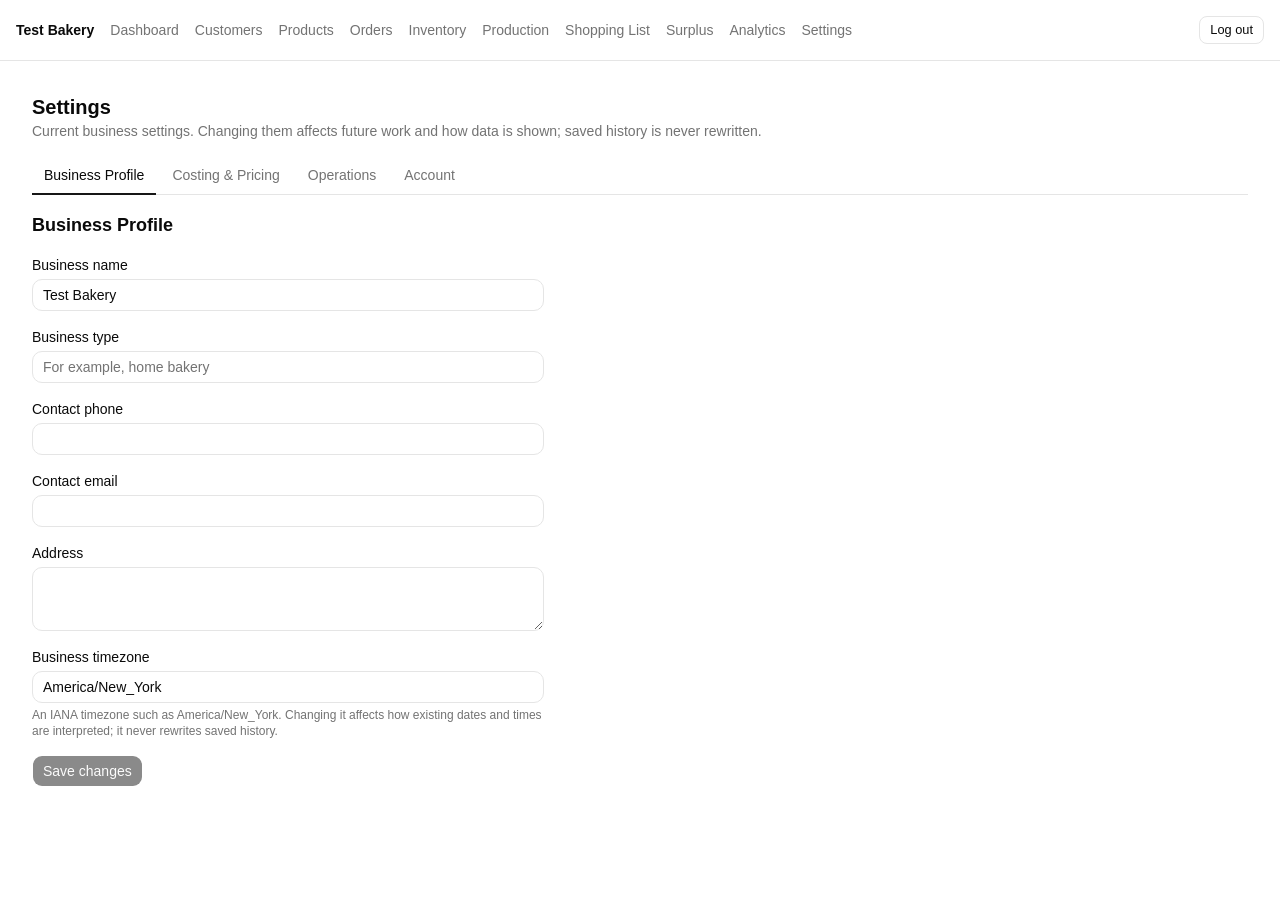
Scenario: Business Profile › shows the server's message under the timezone field when it rejects the value
Replace the text in the field labelled "Business timezone" with "Mars/Phobos" at (288, 687), box [32,671,544,703]
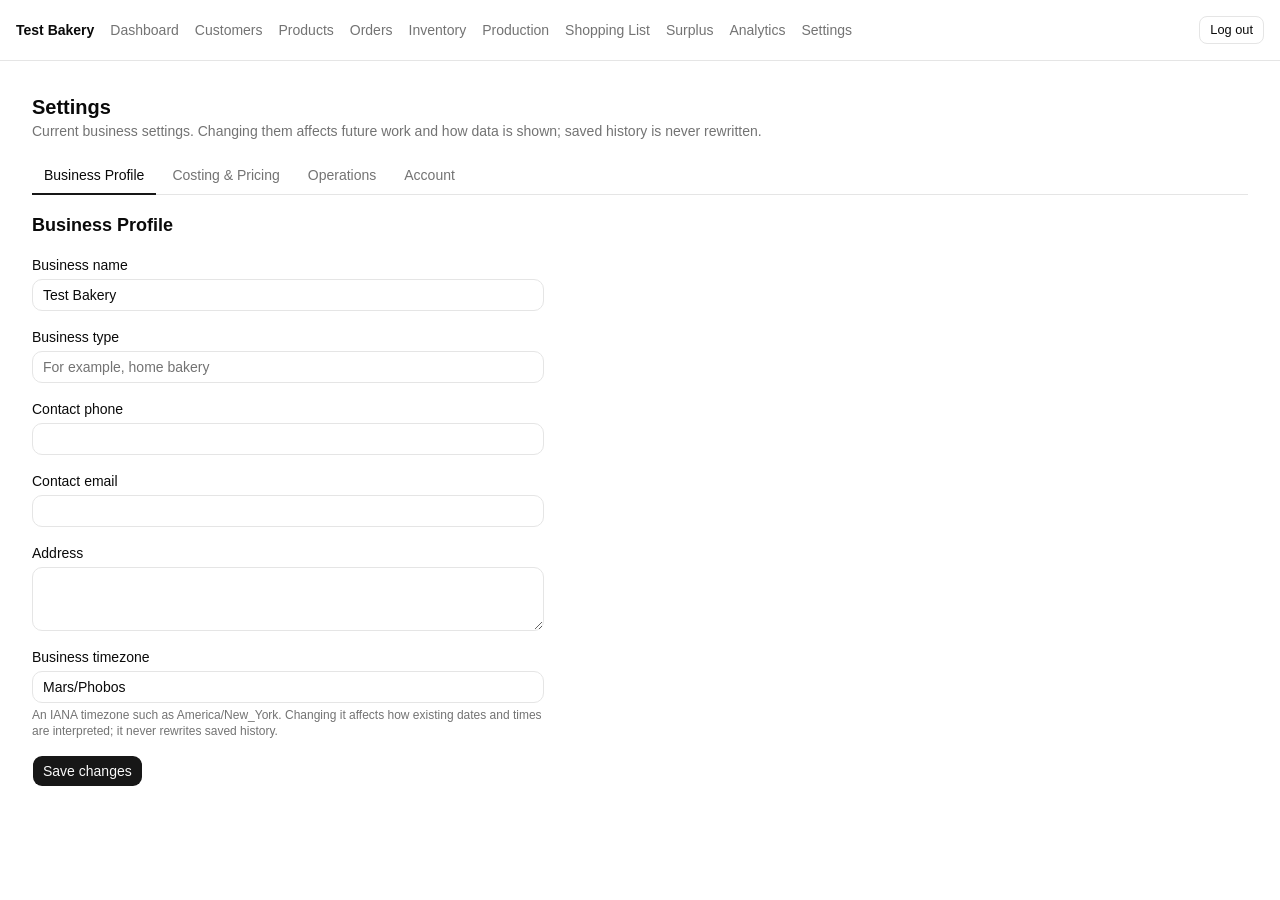
Click the button "Save changes" at (87, 771), box [32,755,143,787]
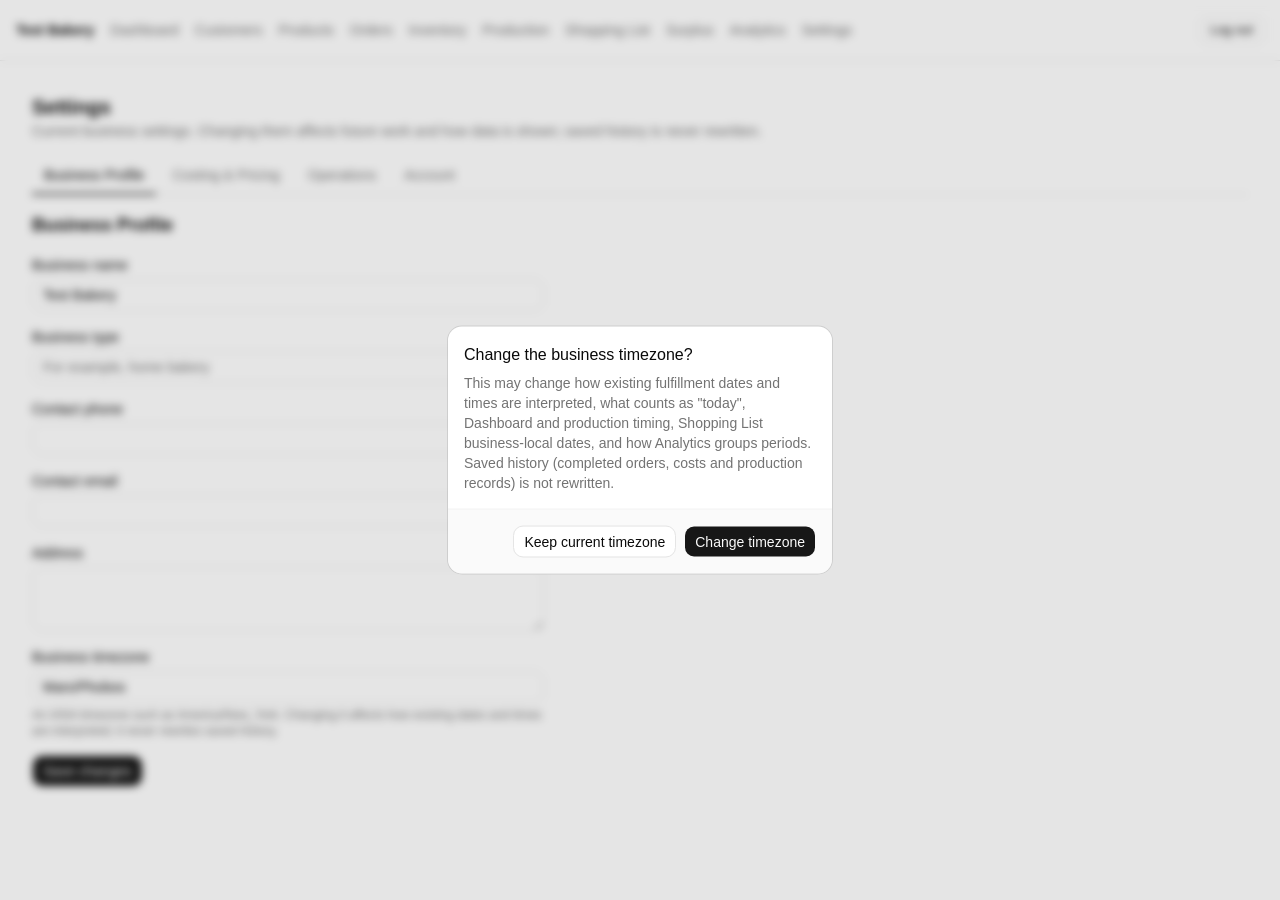
Click the button "Change timezone" at (750, 542), box [684,526,816,558]
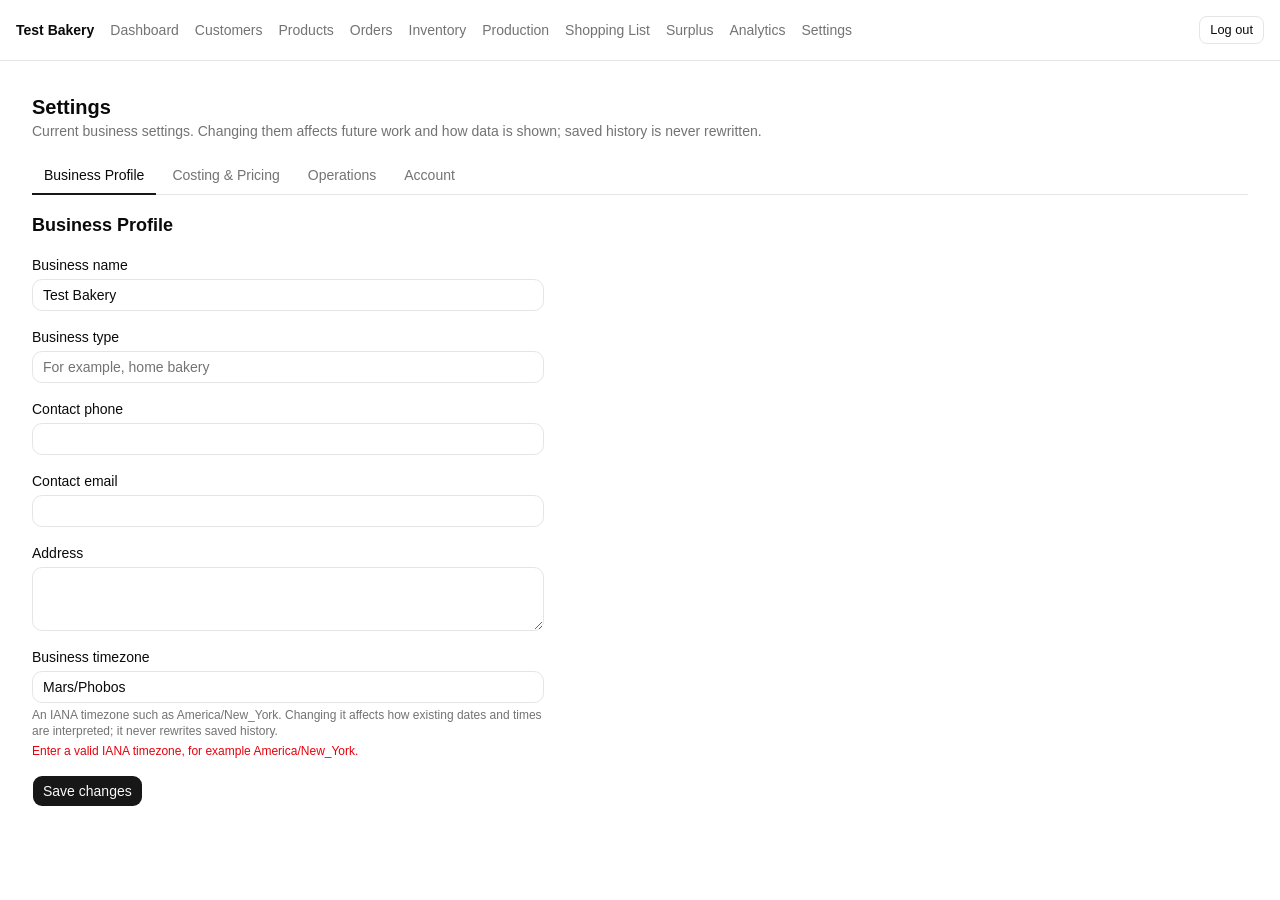
Result: the text "Enter a valid IANA timezone, for example America/New_York." is shown at [32,744,358,758]
